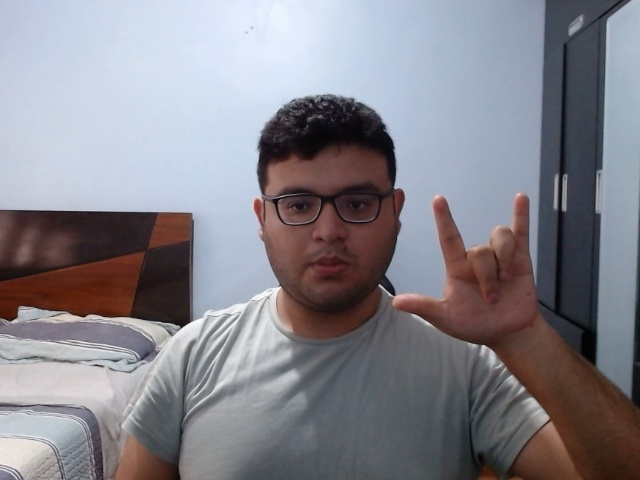I love you: (388, 192, 543, 347)
